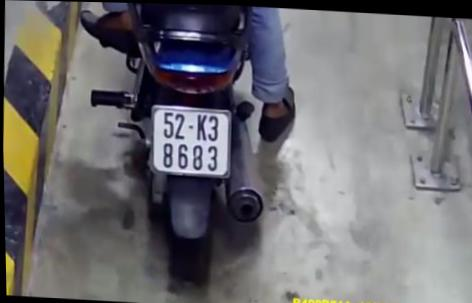LP: (146, 101, 234, 180)
